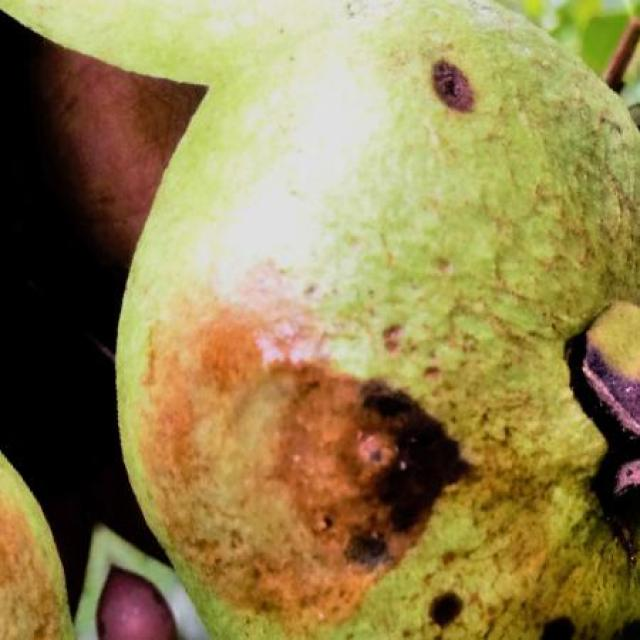Styler and Root: (2, 0, 640, 640)
